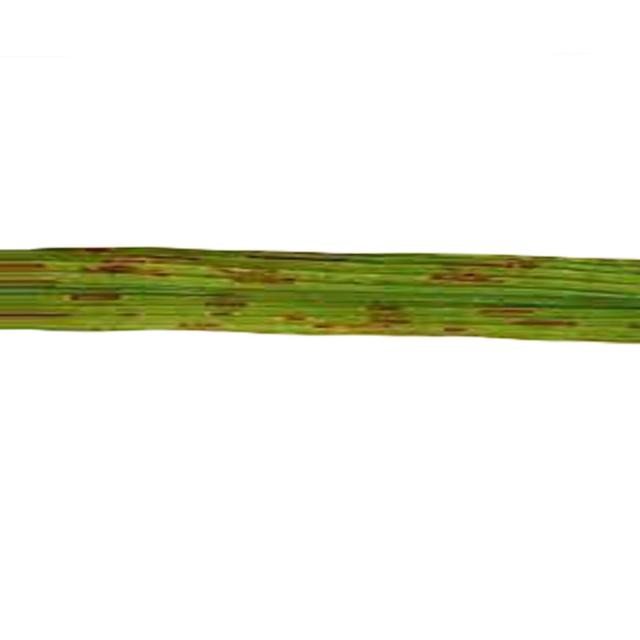Brown_Spot: (244, 251, 362, 262), (465, 255, 544, 269), (85, 256, 146, 274), (246, 269, 299, 284), (150, 251, 205, 265), (430, 272, 502, 282), (0, 310, 66, 320), (480, 306, 535, 318), (368, 319, 412, 333), (176, 315, 219, 329), (64, 291, 121, 301), (205, 298, 248, 310), (504, 319, 568, 326), (366, 300, 404, 311), (0, 262, 45, 271), (312, 316, 341, 329), (441, 324, 474, 335), (281, 311, 306, 321)
